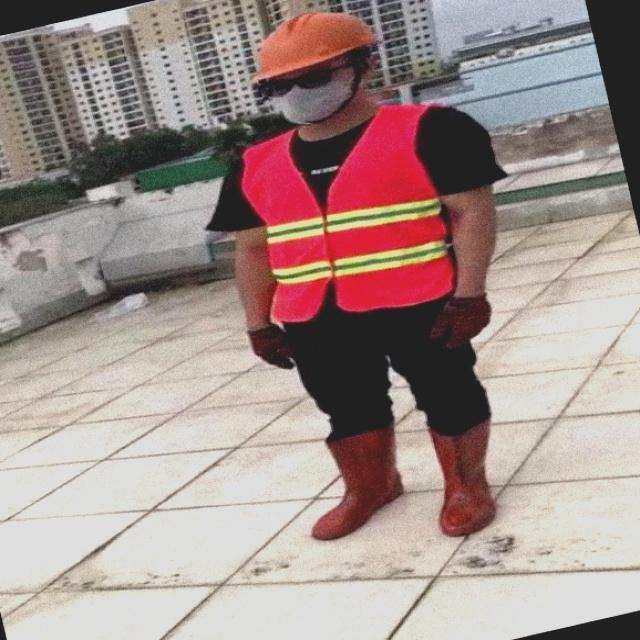helmet: (253, 13, 382, 82)
safety_vest: (224, 100, 466, 328)
